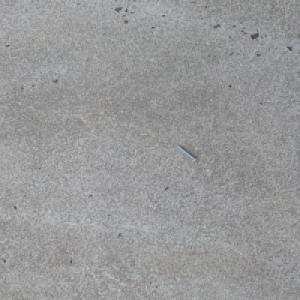Screw: (176, 144, 199, 161)
